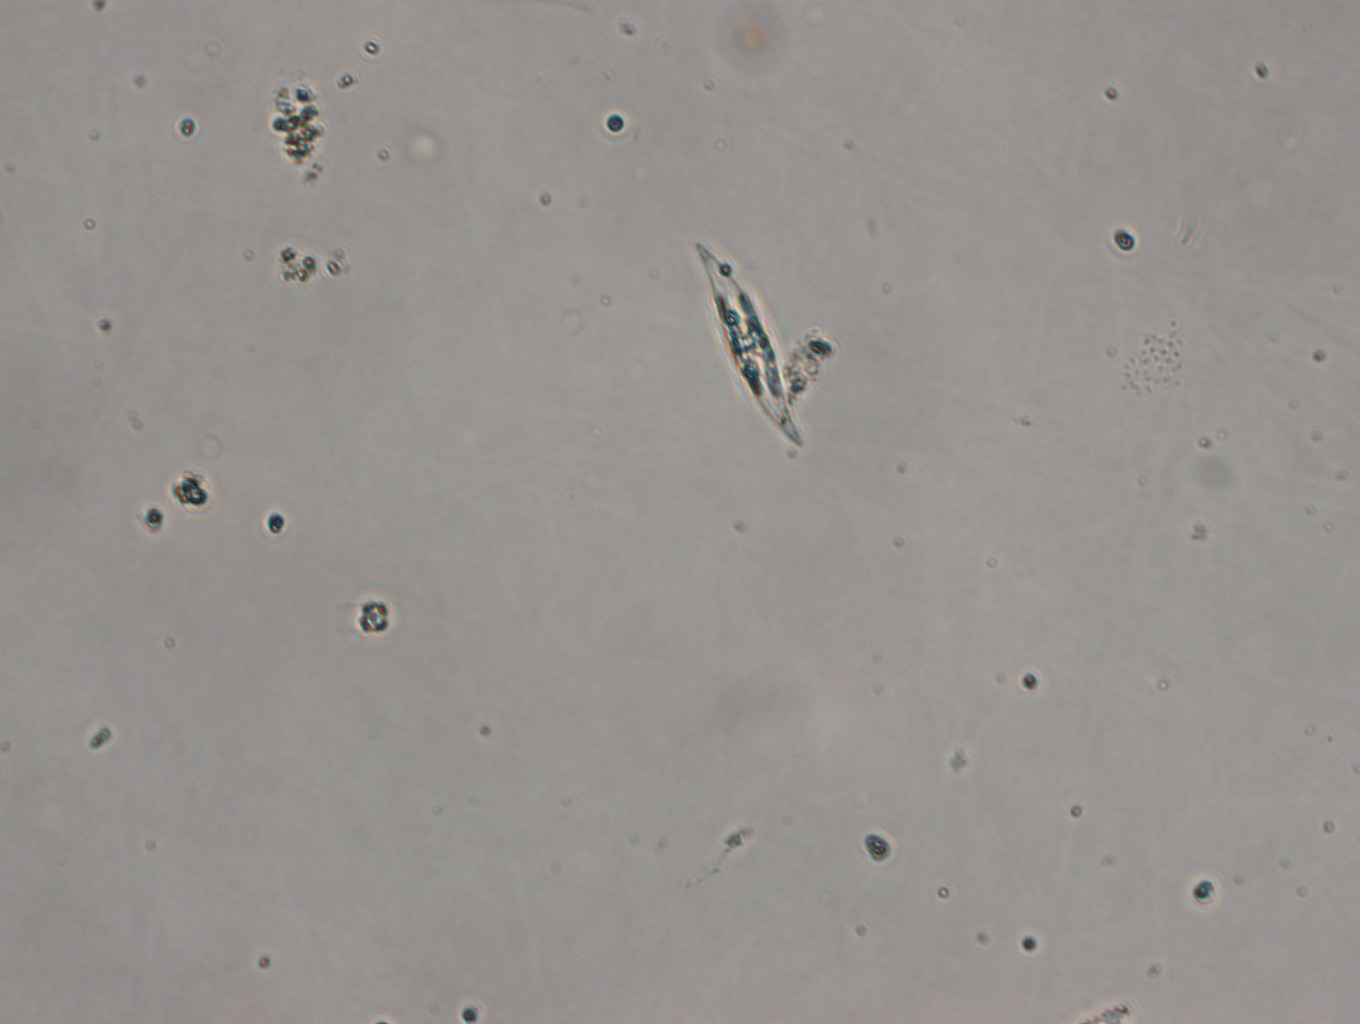pleurosigma pelagicum: (692, 237, 802, 446)
